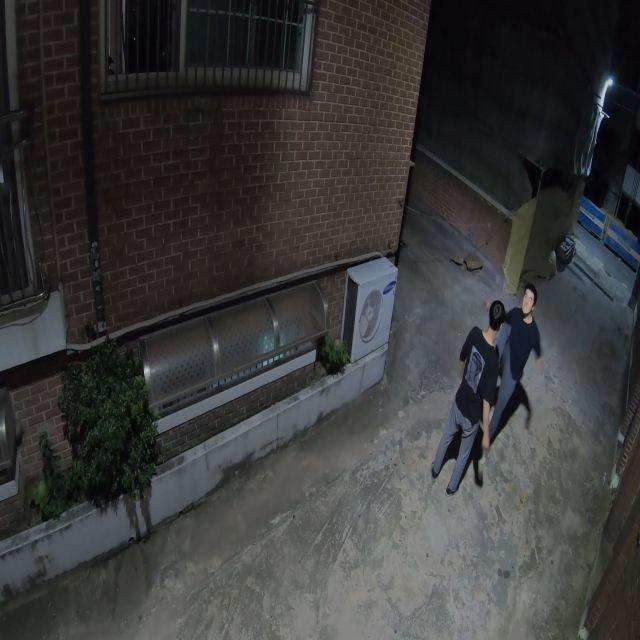fight: (432, 288, 544, 495)
